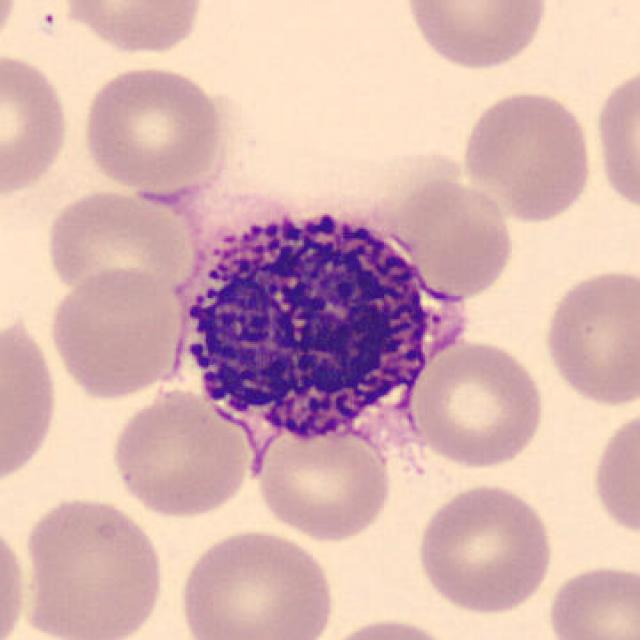Basophil: (151, 189, 485, 469)
RBC: (18, 490, 169, 640), (44, 263, 190, 402), (107, 384, 254, 522), (412, 480, 558, 617), (78, 62, 226, 194), (41, 185, 199, 307), (406, 336, 548, 471), (174, 525, 340, 640), (459, 86, 597, 224), (249, 414, 396, 543), (386, 173, 517, 303), (539, 263, 638, 409), (0, 307, 62, 490), (0, 48, 73, 199), (400, 0, 553, 72), (58, 0, 208, 56), (542, 559, 638, 640), (592, 60, 640, 219), (588, 402, 638, 545), (314, 613, 462, 640), (0, 516, 30, 640), (0, 0, 21, 63)
